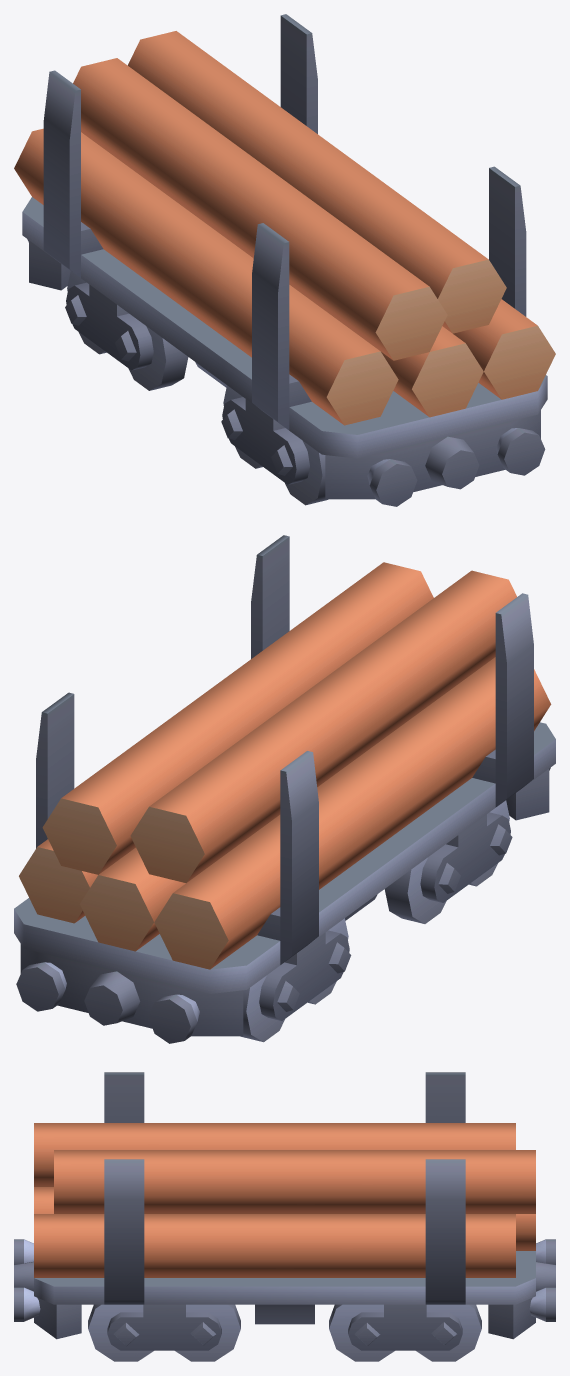
The model's file is k-train-train-carriage-lumber.glb.
3 views of the same model, one above another, from view 1: azimuth 30°, elevation 25°; view 2: azimuth 150°, elevation 25°; view 3: azimuth 270°, elevation 25° (orthographic). The views are drawn at different scales.
Visible parts, largest first — view 1: cargo, train-carriage-lumber, wheels-back, wheels-front; view 2: cargo, train-carriage-lumber, wheels-front, wheels-back; view 3: cargo, train-carriage-lumber, wheels-front, wheels-back.
Boxes of the visible parts, x1,y1,x2,y2 form: cargo: (14,31,555,425); train-carriage-lumber: (22,14,547,506); wheels-back: (65,271,188,390); wheels-front: (221,385,328,505); cargo: (19,562,551,969); train-carriage-lumber: (14,535,555,1043); wheels-front: (384,800,512,923); wheels-back: (240,918,351,1042); cargo: (34,1123,535,1277); train-carriage-lumber: (14,1072,555,1339); wheels-front: (88,1304,240,1361); wheels-back: (329,1304,481,1361).
Size of the model in its own units: 1.1 by 1.16 by 2.7.
1 material, 1 textured.
